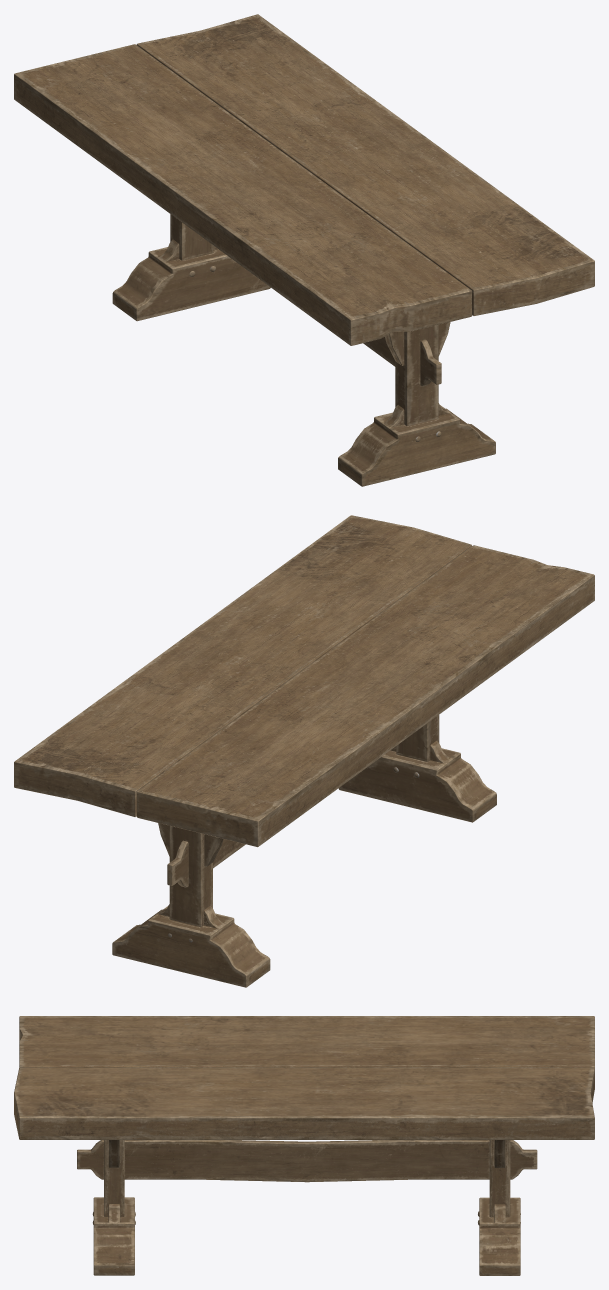
The model's file is painttable.glb.
The picture shows the model from 3 angles, top to bottom: view 1: azimuth 30°, elevation 25°; view 2: azimuth 150°, elevation 25°; view 3: azimuth 270°, elevation 25°; orthographic projection. The views are drawn at different scales.
Visible parts, largest first — view 1: EA_PrimitiveTable; view 2: EA_PrimitiveTable; view 3: EA_PrimitiveTable.
Boxes of the visible parts, bbox=[...] form: EA_PrimitiveTable: bbox=[14, 14, 594, 486]; EA_PrimitiveTable: bbox=[14, 515, 594, 987]; EA_PrimitiveTable: bbox=[14, 1016, 594, 1275].
Bounding box in the file's own units: 99.47 × 82.54 × 240.
1 material, 1 textured.
